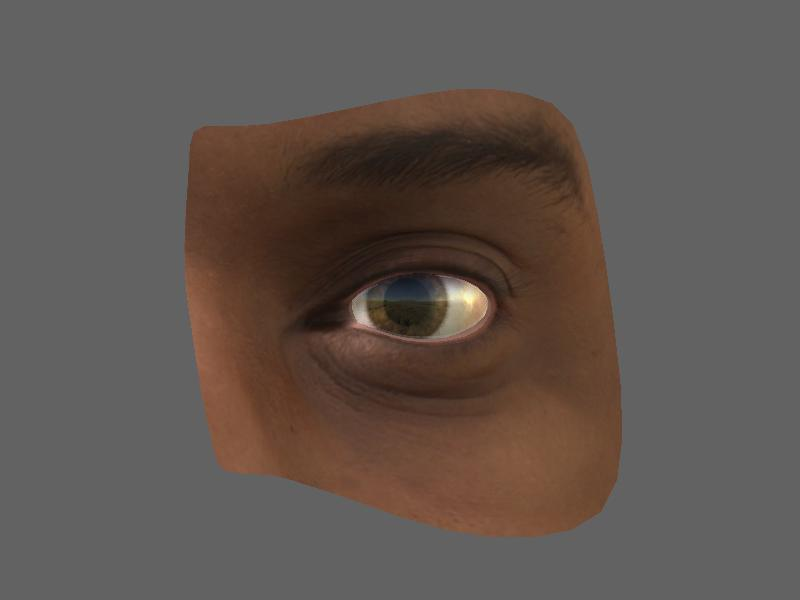iris: (365, 279, 449, 343)
